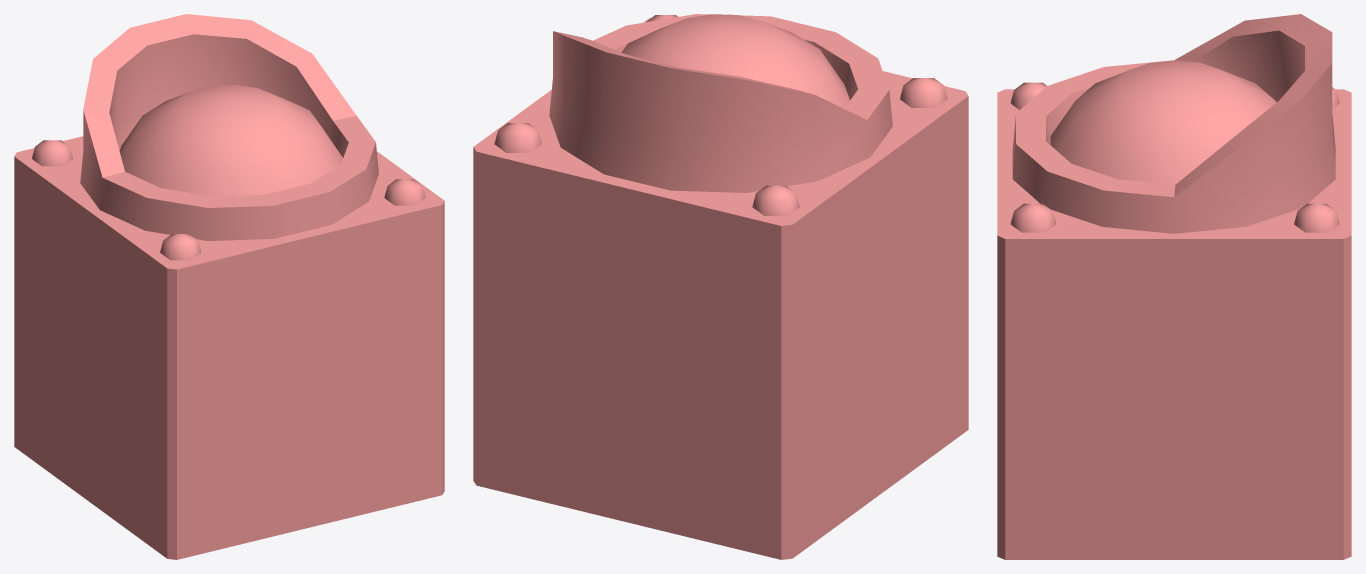
The model's file is traffic_lights.glb.
3 views of the same model, side by side, from view 1: azimuth 30°, elevation 25°; view 2: azimuth 150°, elevation 25°; view 3: azimuth 270°, elevation 25° (orthographic). The views are drawn at different scales.
Parts seen in each view (by area): view 1: traffic_lights; view 2: traffic_lights; view 3: traffic_lights.
Boxes of the visible parts, <box> form: traffic_lights: <box>14,14,444,559</box>; traffic_lights: <box>473,14,968,559</box>; traffic_lights: <box>997,14,1351,559</box>.
Bounding box in the file's own units: 0.9 × 1.23 × 0.9.
